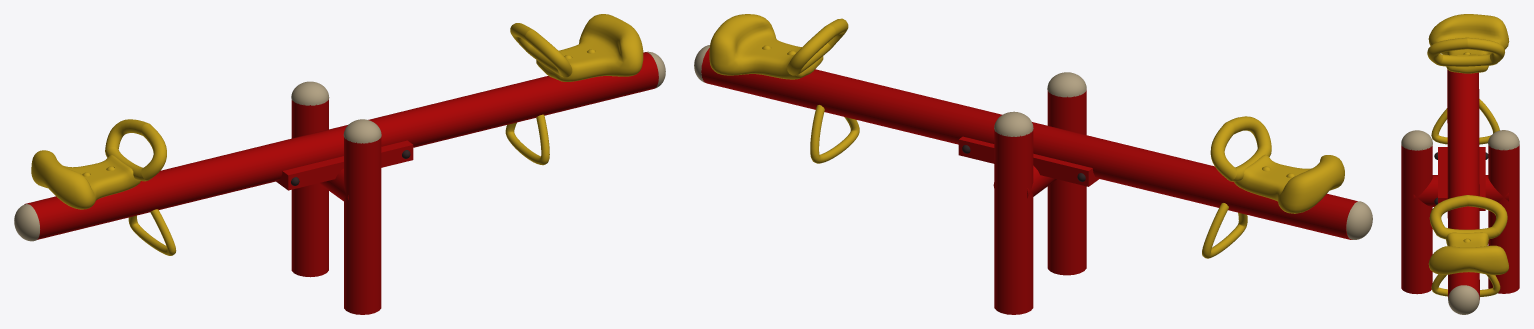
File: Gangorra.FBX
The picture shows the model from 3 angles, left to right: view 1: azimuth 30°, elevation 25°; view 2: azimuth 150°, elevation 25°; view 3: azimuth 270°, elevation 25°; orthographic projection. The views are drawn at different scales.
Parts seen in each view (by area): view 1: Cylinder11111595, Cylinder11111598, Cylinder11111597, Box26242, Box26243, Box26241, Line11436, Line11433, Line11434, Line11435, GeoSphere229, GeoSphere226 (+1 smaller); view 2: Cylinder11111595, Cylinder11111597, Cylinder11111598, Box26242, Box26243, Line11436, Box26241, Line11433, Line11434, Line11435, GeoSphere229, GeoSphere227 (+1 smaller); view 3: Cylinder11111595, Cylinder11111598, Cylinder11111597, Box26242, Box26243, Line11436, Line11433, Box26241, GeoSphere228, Cylinder11111596, Line11435, GeoSphere226 (+2 smaller).
Part boxes in pixels (box(x1,y1,x2,y2)): Cylinder11111595: box(24, 52, 658, 239); Cylinder11111598: box(344, 137, 381, 314); Cylinder11111597: box(291, 99, 328, 277); Box26242: box(536, 14, 643, 81); Box26243: box(31, 150, 140, 209); Box26241: box(276, 140, 413, 190); Line11436: box(105, 119, 166, 181); Line11433: box(510, 23, 572, 77); Line11434: box(505, 114, 549, 165); Line11435: box(128, 209, 176, 255); GeoSphere229: box(14, 204, 39, 241); GeoSphere226: box(291, 81, 329, 105); Cylinder11111595: box(701, 48, 1357, 239); Cylinder11111597: box(994, 129, 1033, 314); Cylinder11111598: box(1047, 90, 1086, 275); Box26242: box(709, 14, 823, 79); Box26243: box(1234, 154, 1344, 213); Line11436: box(1210, 116, 1271, 181); Box26241: box(958, 136, 1098, 186); Line11433: box(787, 18, 848, 75); Line11434: box(810, 105, 859, 163); Line11435: box(1202, 203, 1247, 258); GeoSphere229: box(1346, 201, 1372, 239); GeoSphere227: box(1047, 72, 1086, 97); Cylinder11111595: box(1447, 69, 1479, 298); Cylinder11111598: box(1401, 145, 1432, 294); Cylinder11111597: box(1488, 144, 1519, 293); Box26242: box(1428, 232, 1508, 275); Box26243: box(1428, 14, 1509, 73); Line11436: box(1427, 37, 1504, 66); Line11433: box(1429, 195, 1507, 239); Box26241: box(1438, 147, 1485, 210); GeoSphere228: box(1448, 285, 1479, 314); Cylinder11111596: box(1413, 175, 1508, 206); Line11435: box(1431, 99, 1499, 144); GeoSphere226: box(1488, 130, 1519, 150).
Size of the model in its own units: 197 by 60.08 by 37.29.
